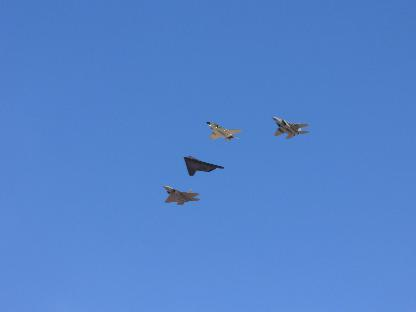E7: (182, 154, 224, 176)
F117: (272, 116, 308, 138)
F18: (162, 185, 200, 205)
F35: (206, 121, 242, 141)
